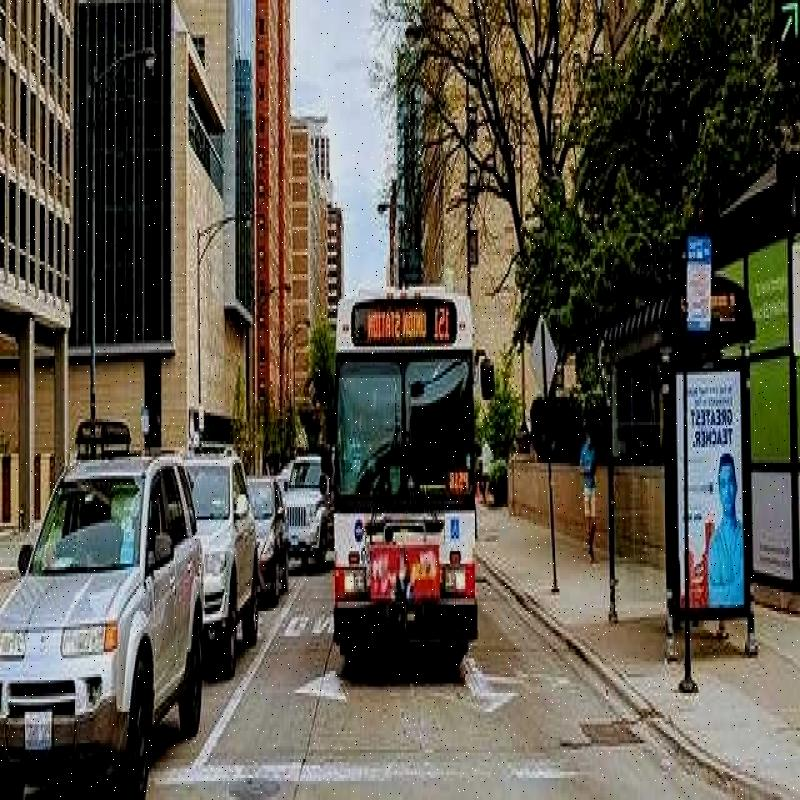bus: (328, 276, 483, 666)
